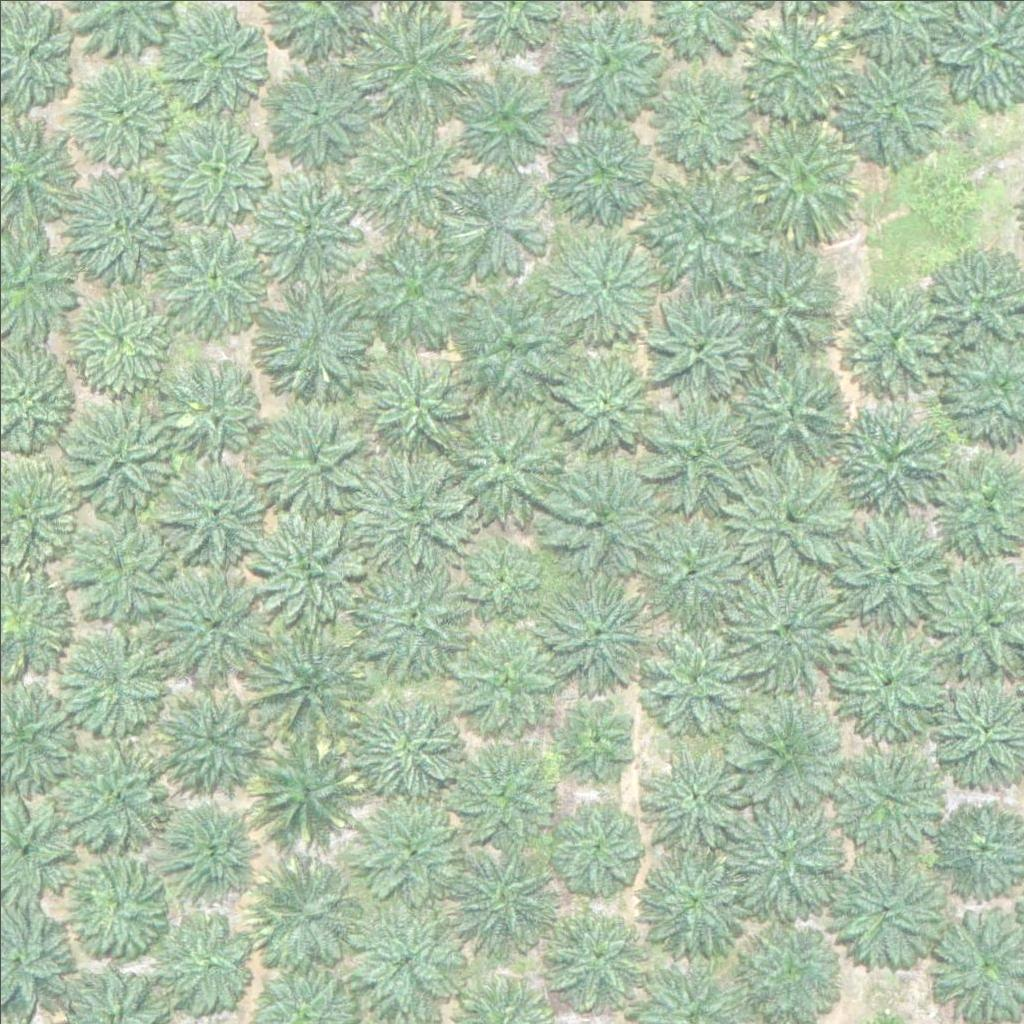Kelapa_Sawit: (719, 787, 844, 913), (726, 566, 851, 692), (730, 451, 855, 577), (434, 395, 559, 521), (348, 548, 473, 674), (739, 108, 864, 233), (355, 685, 468, 799), (444, 842, 557, 956), (637, 512, 750, 626), (640, 619, 753, 733), (158, 109, 271, 223), (264, 54, 377, 168), (58, 735, 171, 848), (729, 692, 842, 805), (835, 738, 948, 851), (832, 856, 945, 969), (641, 288, 754, 401), (644, 392, 757, 505), (545, 108, 658, 221), (354, 456, 467, 569), (260, 279, 373, 392), (257, 399, 370, 512), (252, 503, 365, 616), (155, 220, 268, 333), (546, 571, 658, 685), (544, 457, 656, 571), (456, 278, 568, 392), (361, 227, 473, 341), (247, 168, 359, 282), (356, 7, 468, 121), (154, 676, 266, 789), (252, 857, 364, 970), (247, 732, 359, 845), (351, 902, 463, 1015), (640, 848, 752, 961), (838, 282, 950, 395), (831, 407, 943, 520), (839, 510, 951, 623), (834, 620, 946, 733), (734, 350, 846, 463), (727, 252, 839, 365), (645, 165, 757, 278), (357, 108, 469, 221), (252, 627, 364, 740), (157, 567, 269, 680), (161, 458, 273, 571), (69, 164, 181, 277), (63, 281, 175, 394), (62, 395, 174, 508), (65, 856, 165, 957), (160, 797, 260, 898), (157, 911, 257, 1012), (643, 746, 743, 847), (738, 922, 838, 1023), (550, 235, 650, 336), (456, 64, 556, 165), (456, 622, 556, 723), (163, 366, 263, 467), (75, 523, 175, 624), (65, 632, 165, 733), (163, 5, 263, 106), (555, 11, 655, 112), (652, 68, 752, 169), (746, 18, 846, 119), (836, 56, 936, 157), (359, 804, 459, 904), (451, 744, 551, 844), (557, 353, 657, 453), (450, 168, 550, 268), (364, 357, 464, 457), (68, 62, 168, 162), (552, 800, 640, 888), (550, 905, 638, 993), (562, 697, 637, 773), (460, 538, 535, 614)
